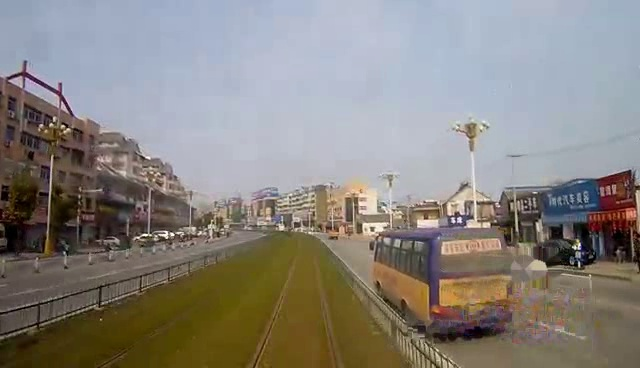bus: (368, 225, 517, 339)
